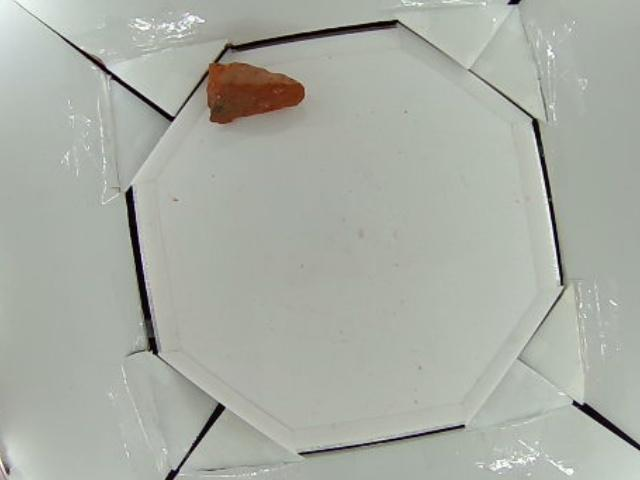Brisk: (206, 61, 305, 123)
